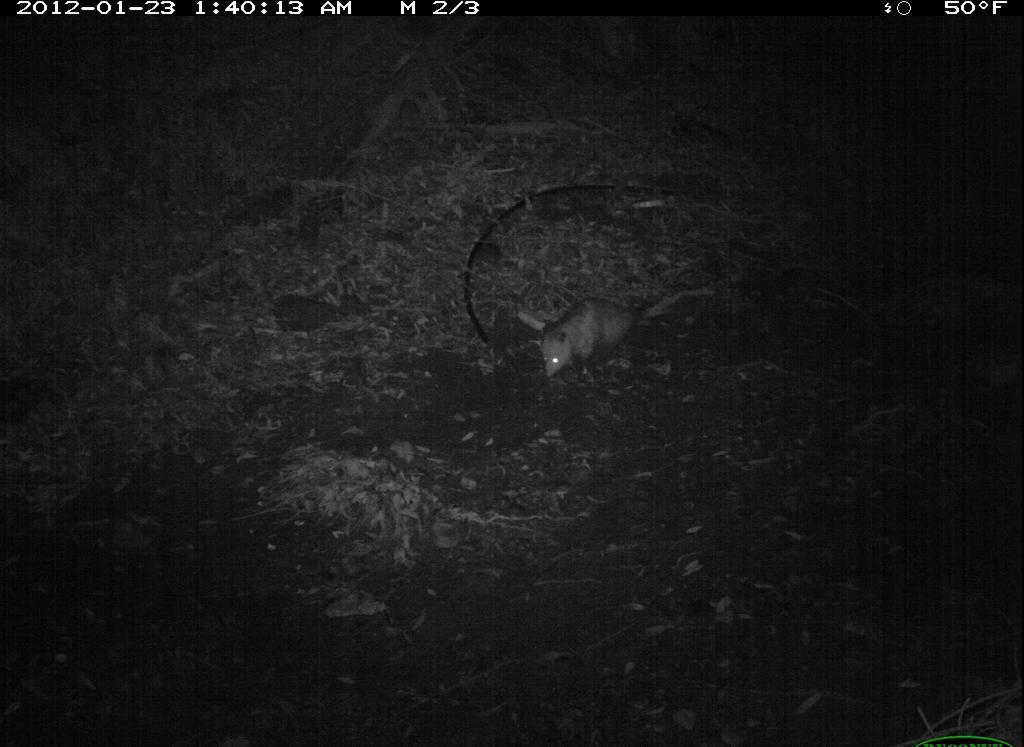opossum: (527, 271, 734, 389)
